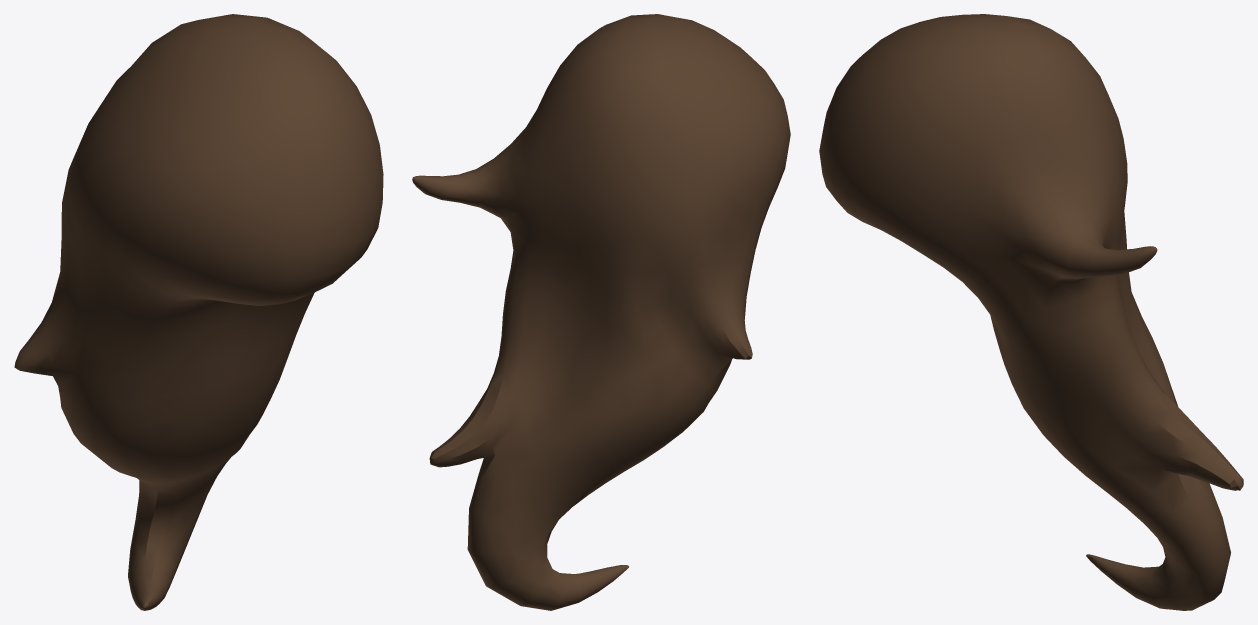
The model's file is Model_Hair_Extra_003_CurlyPonytail.fbx.
The picture shows the model from 3 angles, left to right: view 1: azimuth 30°, elevation 25°; view 2: azimuth 150°, elevation 25°; view 3: azimuth 270°, elevation 25°; orthographic projection. The views are drawn at different scales.
Visible parts, largest first — view 1: Hair_Extra_CurlyPony_003; view 2: Hair_Extra_CurlyPony_003; view 3: Hair_Extra_CurlyPony_003.
Boxes of the visible parts, <box> form: Hair_Extra_CurlyPony_003: <box>14,14,383,610</box>; Hair_Extra_CurlyPony_003: <box>412,14,790,610</box>; Hair_Extra_CurlyPony_003: <box>819,14,1243,610</box>.
Bounding box in the file's own units: 115 × 191 × 127.
